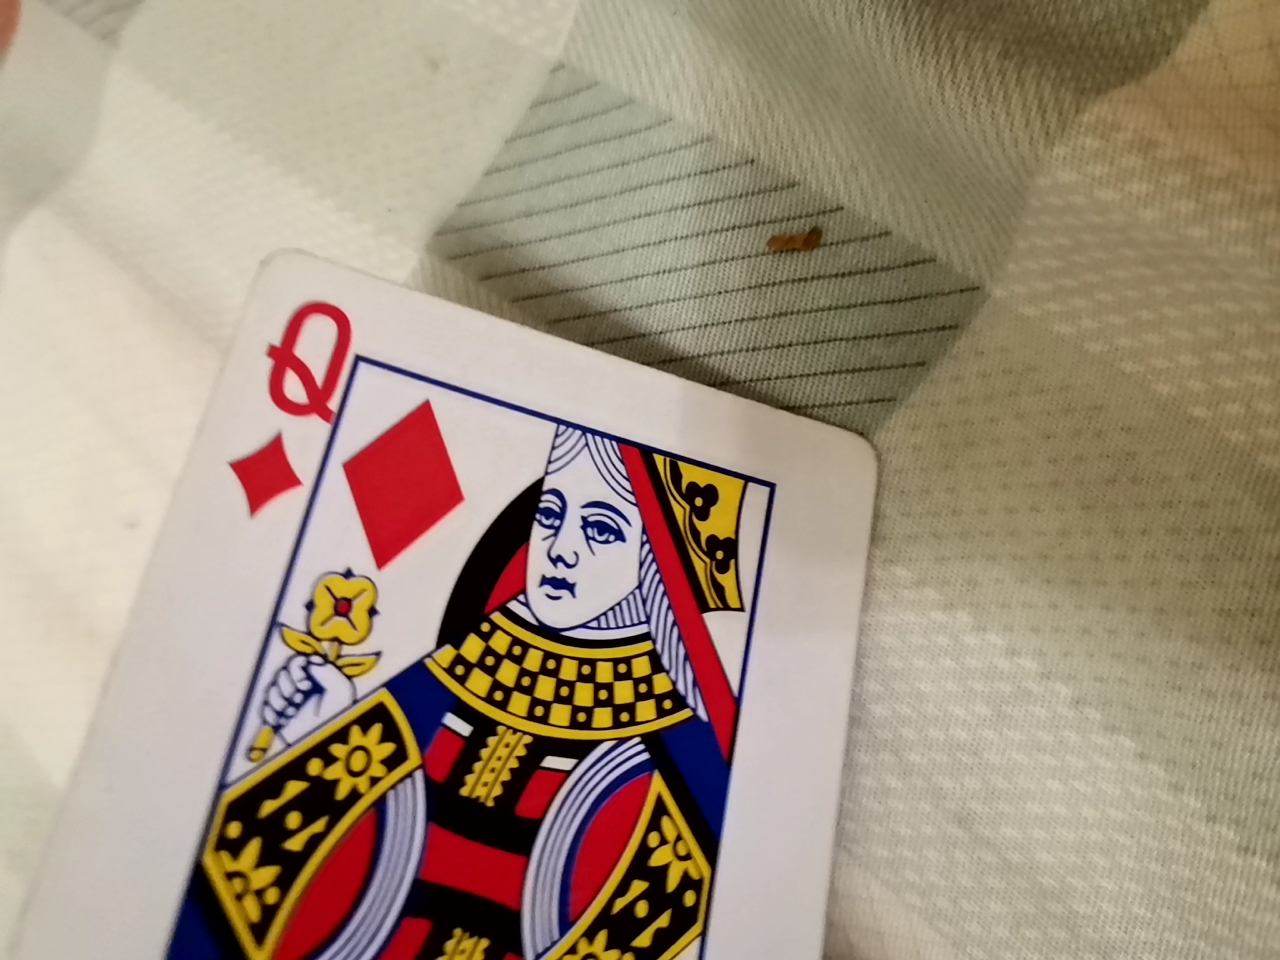fk q: (1, 230, 926, 954)
